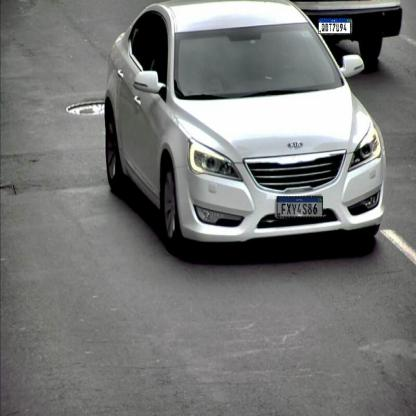PlacaM: (277, 196, 323, 218), (318, 18, 350, 34)
